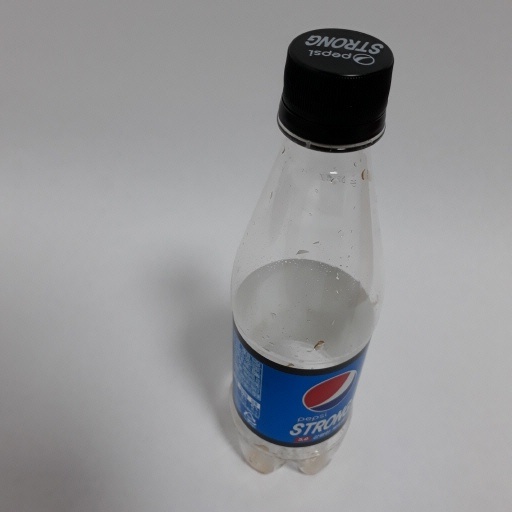Plastic_0: (226, 28, 396, 479)
